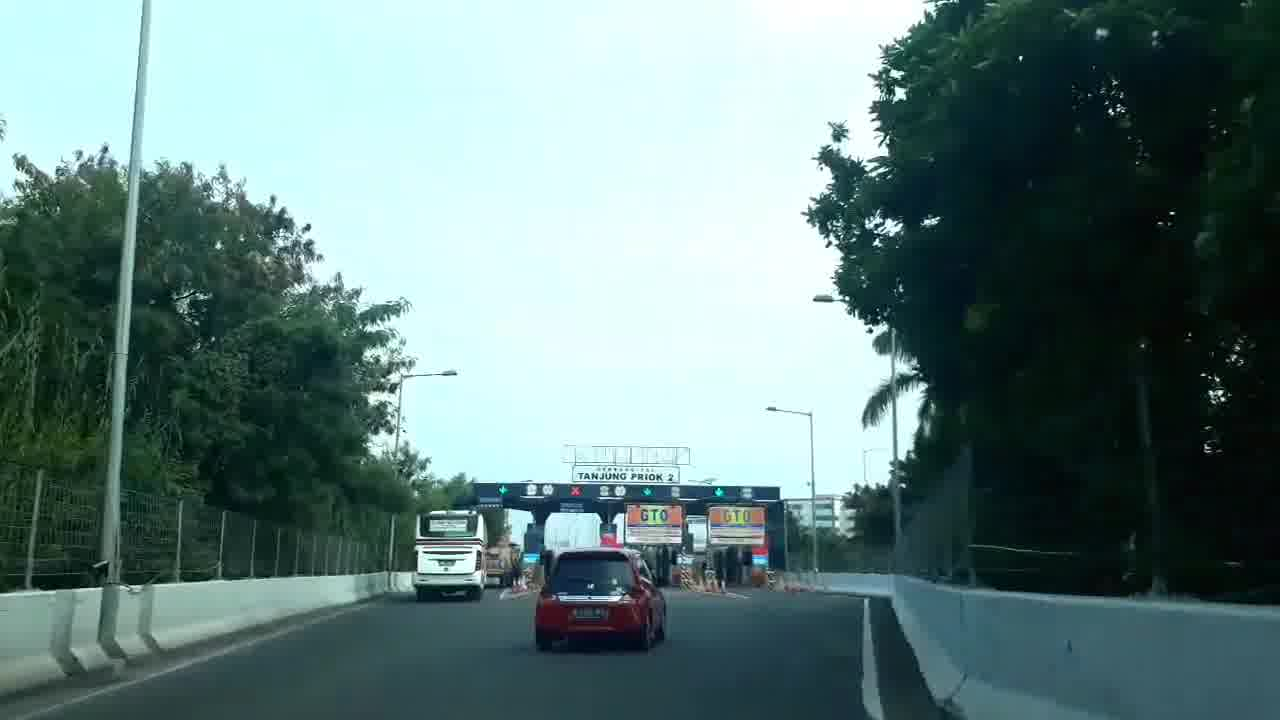plate_positive: (575, 607, 606, 618)
